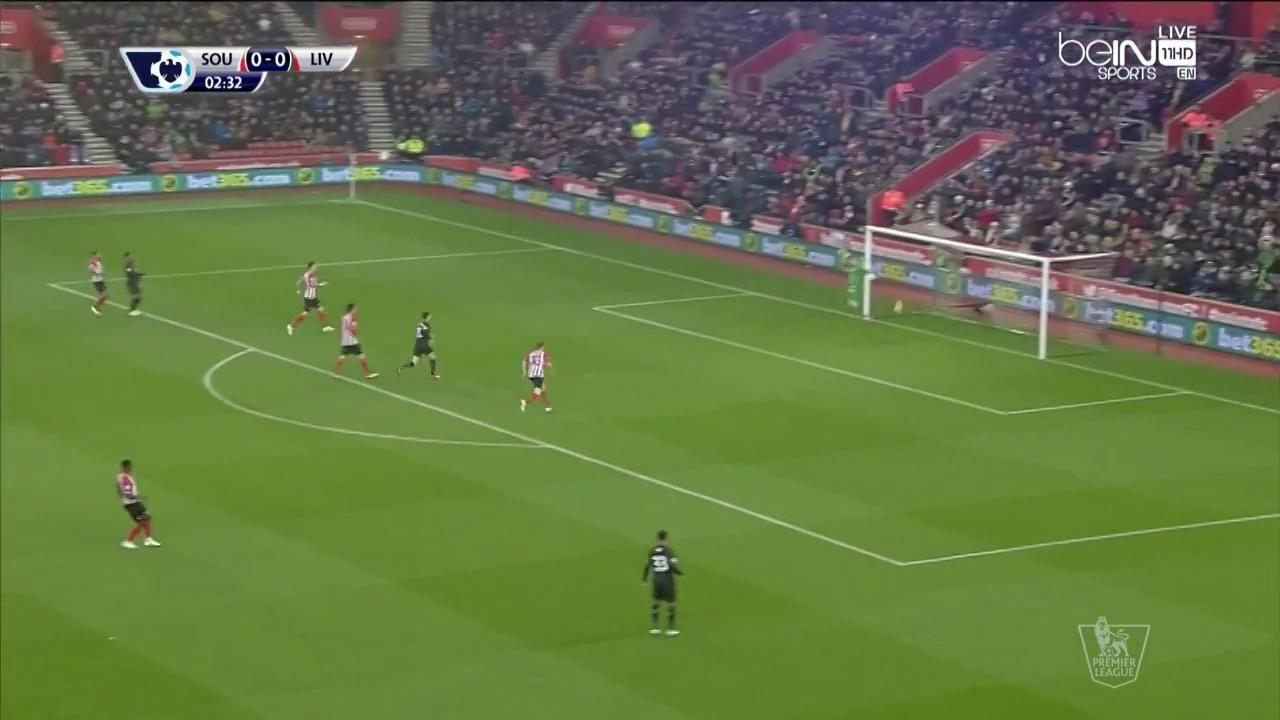football: (894, 299, 905, 314)
